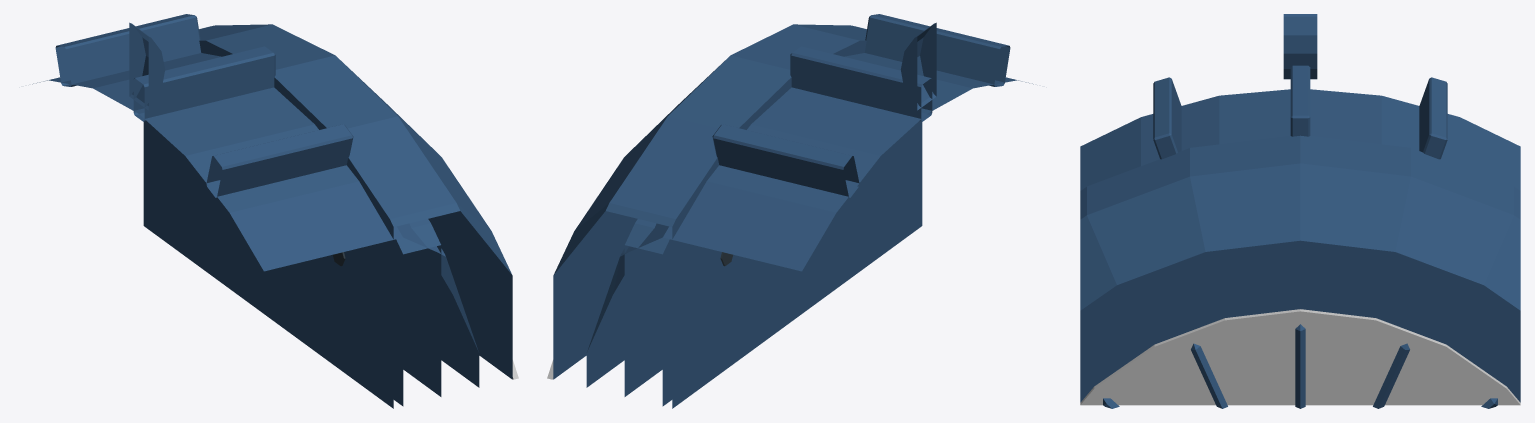
Rendered from cell_70.obj.
3 views of the same model, side by side, from view 1: azimuth 30°, elevation 25°; view 2: azimuth 150°, elevation 25°; view 3: azimuth 270°, elevation 25° (orthographic). The views are drawn at different scales.
Bounding box in the file's own units: 0.6086 × 0.7053 × 1.
